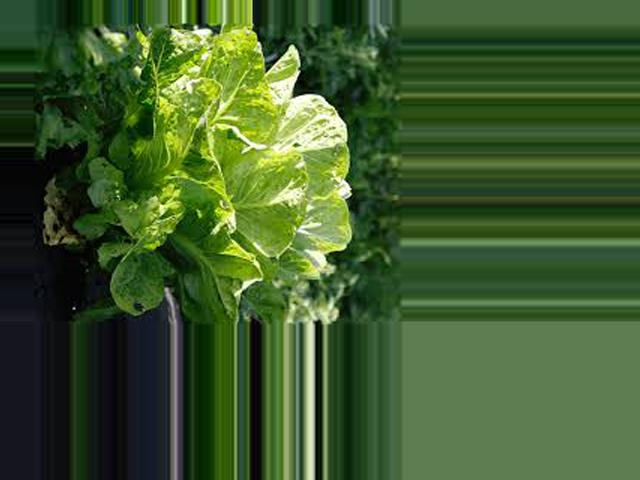lettuce: (94, 55, 346, 313)
